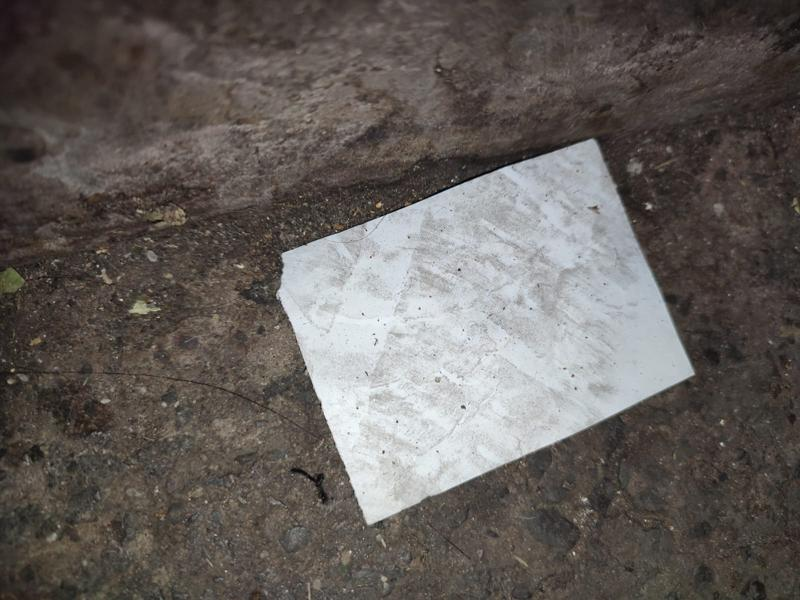papel: (277, 139, 695, 527)
